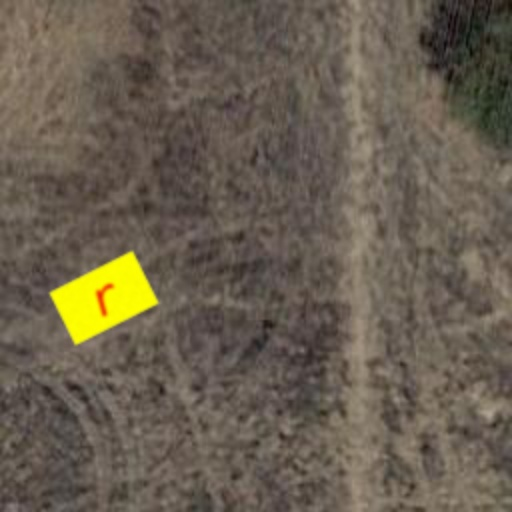rectangle: (40, 234, 168, 362)
